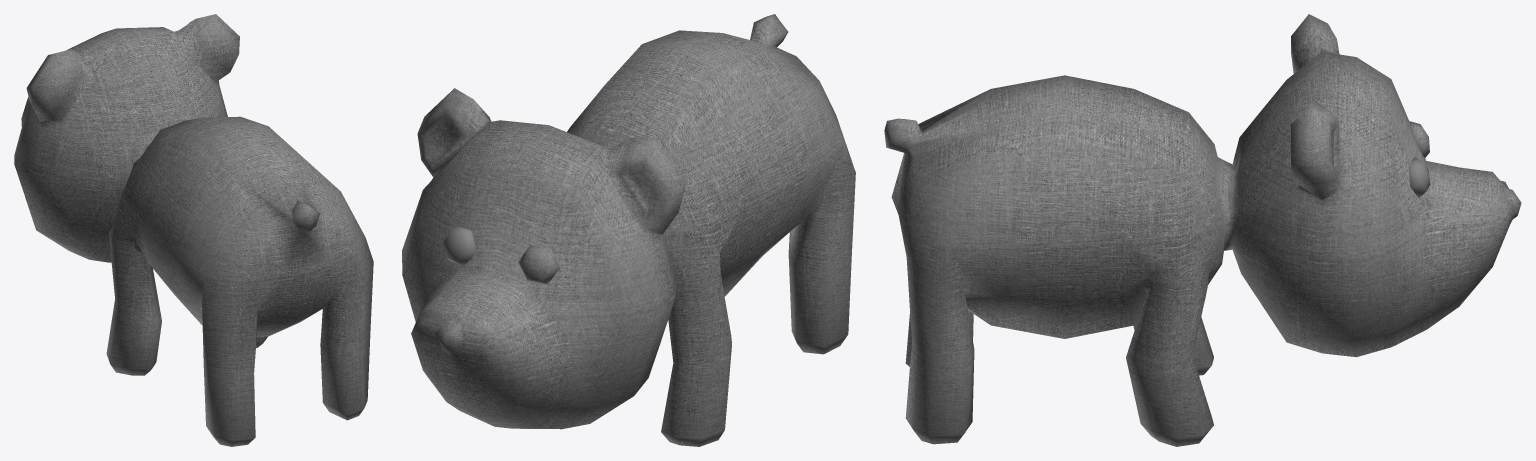
Rendered from teddyGun.fbx.
The picture shows the model from 3 angles, left to right: view 1: azimuth 30°, elevation 25°; view 2: azimuth 150°, elevation 25°; view 3: azimuth 270°, elevation 25°; orthographic projection. The views are drawn at different scales.
Parts seen in each view (by area): view 1: pCube3; view 2: pCube3, pSphere1; view 3: pCube3, pSphere1.
Part boxes in pixels (x1=…): pCube3: x1=14, y1=14, x2=373, y2=446; pCube3: x1=402, y1=14, x2=855, y2=446; pSphere1: x1=443, y1=225, x2=559, y2=284; pCube3: x1=884, y1=14, x2=1521, y2=446; pSphere1: x1=1408, y1=121, x2=1429, y2=197.
Bounding box in the file's own units: 3.42 × 4.41 × 7.46.
